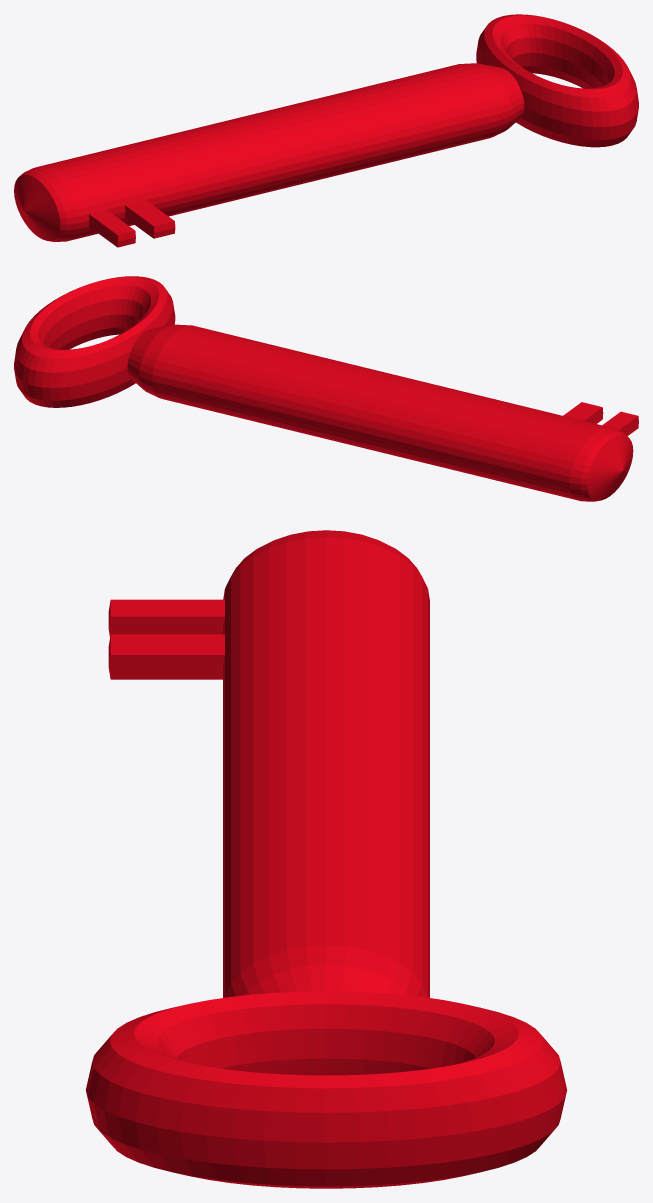
Rendered from KeyRed.fbx.
3 views of the same model, one above another, from view 1: azimuth 30°, elevation 25°; view 2: azimuth 150°, elevation 25°; view 3: azimuth 270°, elevation 25° (orthographic). The views are drawn at different scales.
Parts seen in each view (by area): view 1: KeyRed; view 2: KeyRed; view 3: KeyRed.
Part boxes in pixels (x1,y1,x2,y2): KeyRed: [14, 14, 638, 247]; KeyRed: [14, 276, 638, 501]; KeyRed: [86, 530, 566, 1188].
Size of the model in its own units: 5.33 by 0.5566 by 1.91.
